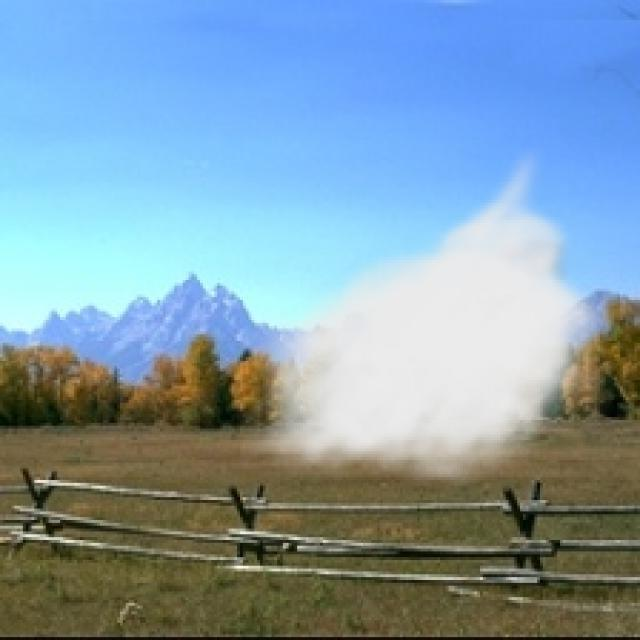Smoke: (237, 142, 614, 492)
